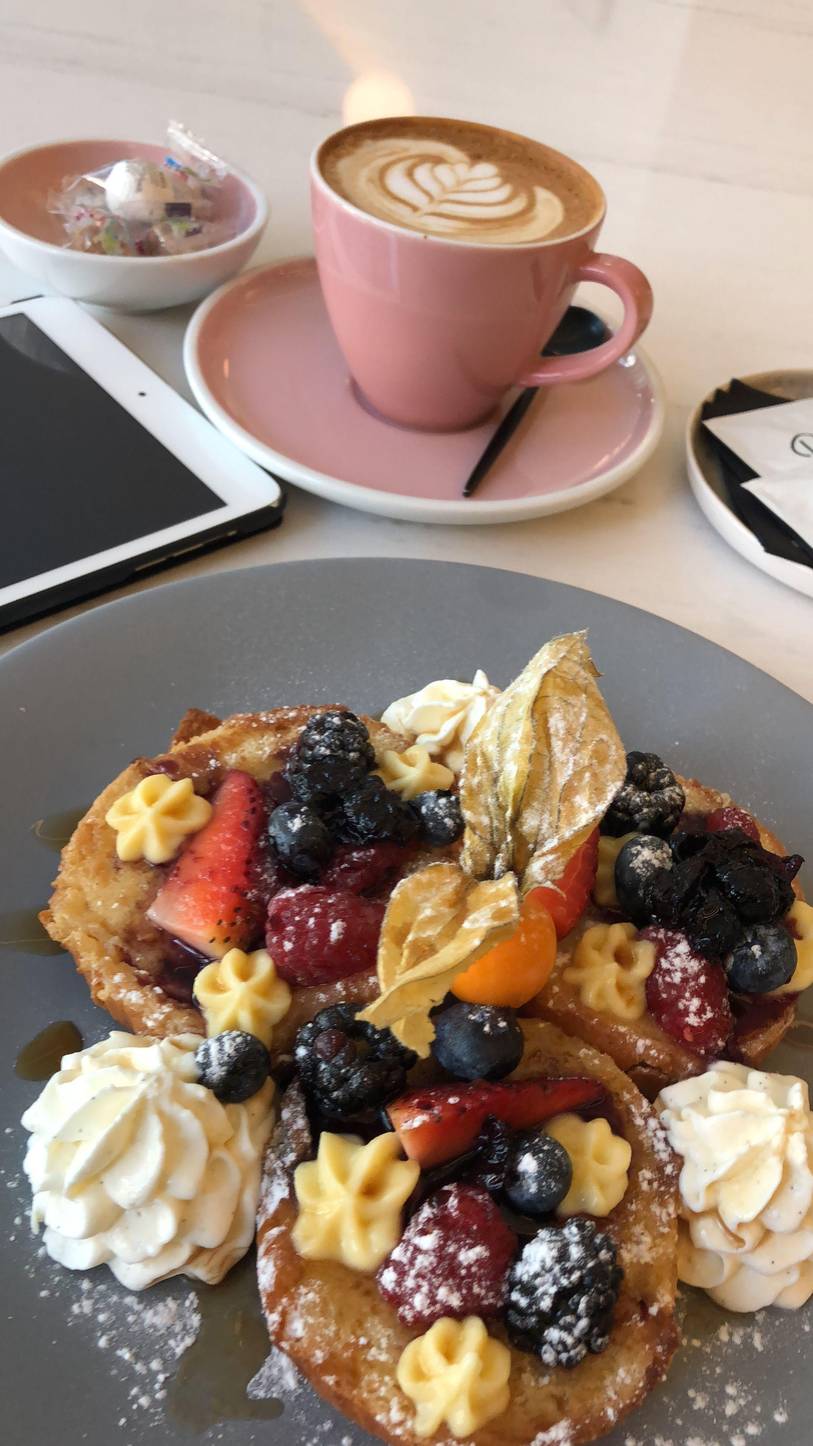cup-handle: (307, 107, 653, 433)
